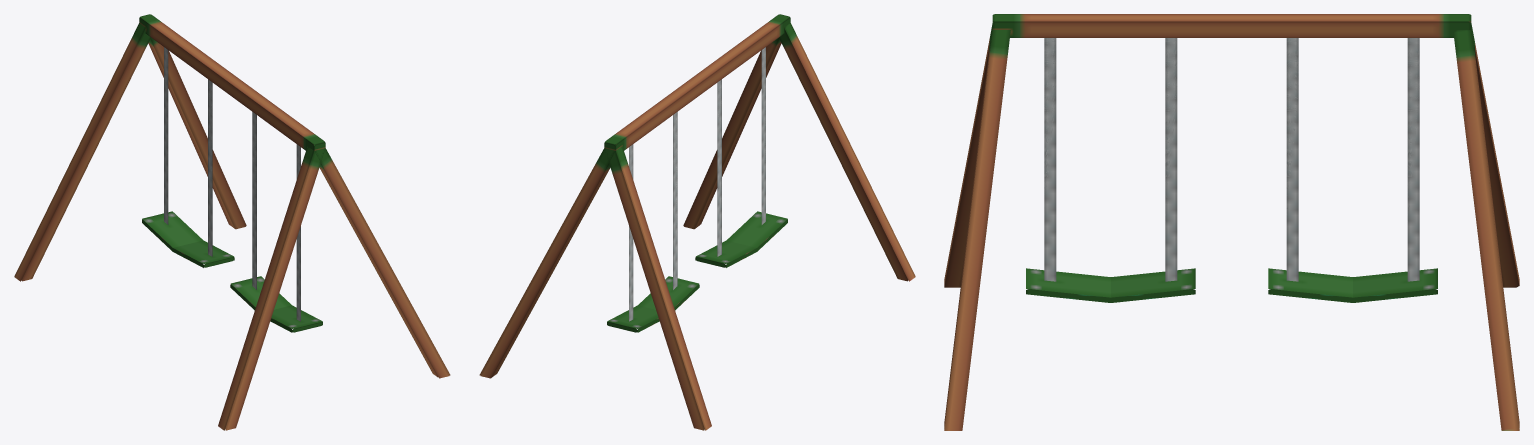
The model's file is Swingset.fbx.
3 renders of one model, left to right at view 1: azimuth 30°, elevation 25°; view 2: azimuth 150°, elevation 25°; view 3: azimuth 270°, elevation 25°, orthographic. The views are drawn at different scales.
Parts seen in each view (by area): view 1: Swingset; view 2: Swingset; view 3: Swingset.
Boxes of the visible parts, x1,y1,x2,y2 form: Swingset: (14, 14, 450, 430); Swingset: (479, 14, 915, 430); Swingset: (944, 14, 1519, 430).
Bounding box in the file's own units: 184 × 192 × 297.
Materials: 1 (1 with a texture image).
